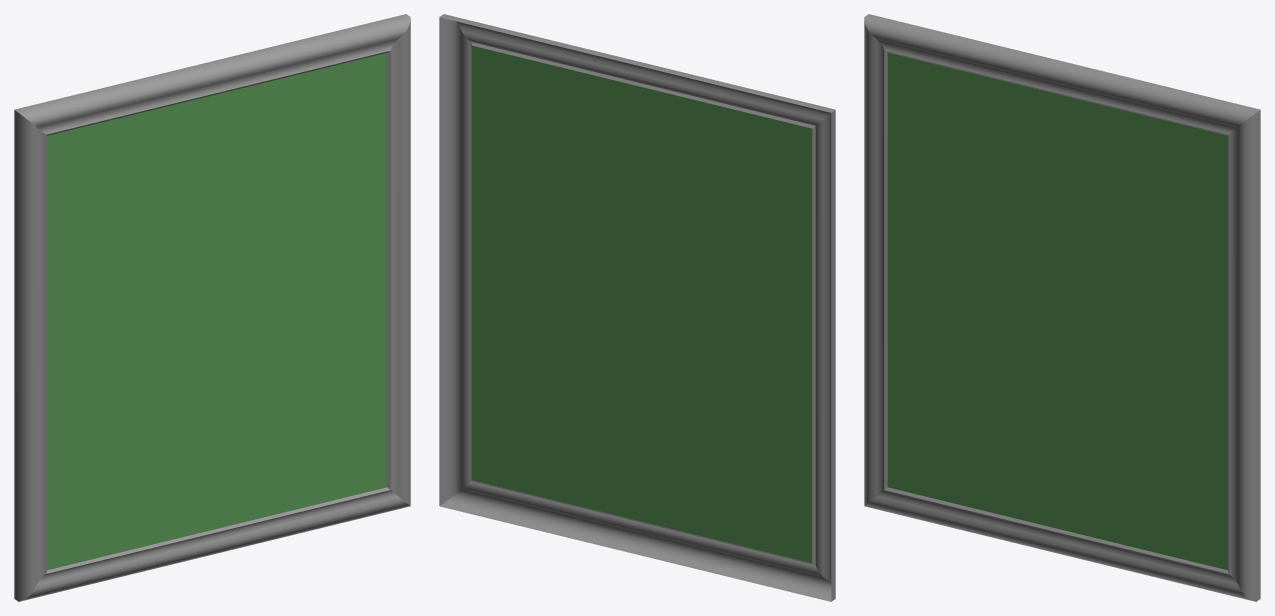
The model's file is Painting.FBX.
3 views of the same model, side by side, from view 1: azimuth 30°, elevation 25°; view 2: azimuth 150°, elevation 25°; view 3: azimuth 330°, elevation 25° (orthographic).
Visible parts, largest first — view 1: Painting; view 2: Painting; view 3: Painting.
Part boxes in pixels (x1,y1,x2,y2): Painting: (14,14,410,601); Painting: (439,14,835,601); Painting: (864,14,1260,601).
Size of the model in its own units: 50.22 by 1.88 by 59.88.
